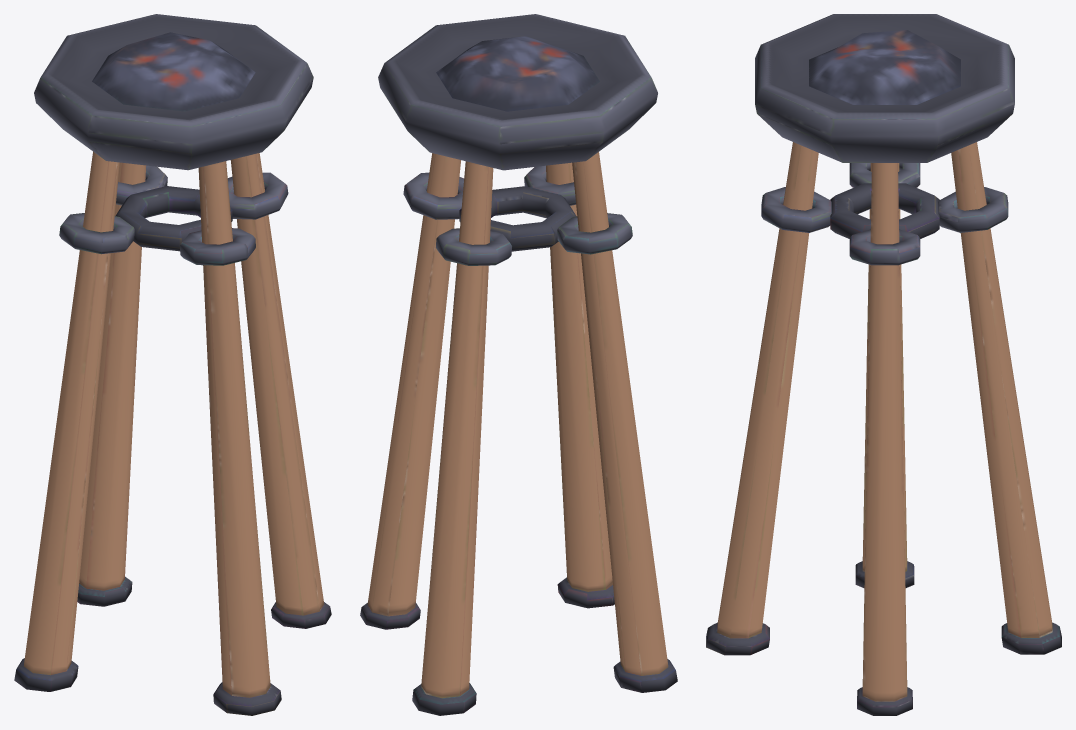
File: PedestalCinzas1.fbx
The picture shows the model from 3 angles, left to right: view 1: azimuth 30°, elevation 25°; view 2: azimuth 150°, elevation 25°; view 3: azimuth 270°, elevation 25°; orthographic projection.
Parts seen in each view (by area): view 1: Pedestal de cinzas; view 2: Pedestal de cinzas; view 3: Pedestal de cinzas.
Part boxes in pixels (x1,y1,x2,y2): Pedestal de cinzas: [14, 14, 331, 715]; Pedestal de cinzas: [360, 14, 677, 715]; Pedestal de cinzas: [706, 14, 1061, 715].
Size of the model in its own units: 58.66 by 109 by 59.33.
Materials: 1 (1 with a texture image).
